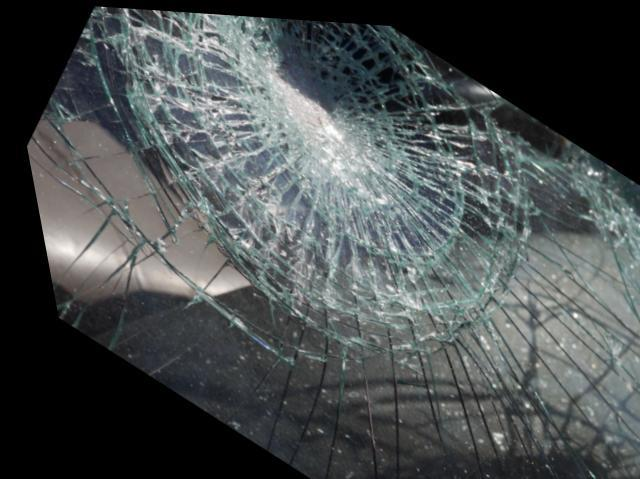glass shatter: (21, 5, 640, 479)
